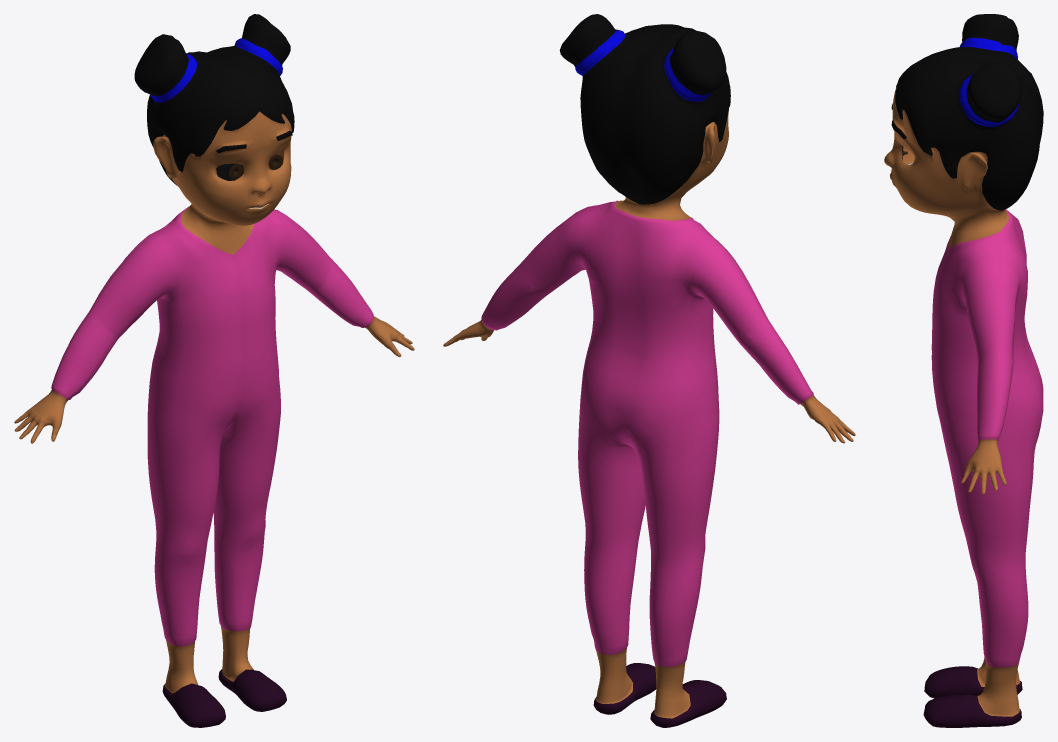
The model's file is lowpoly.fbx.
3 renders of one model, left to right at view 1: azimuth 30°, elevation 25°; view 2: azimuth 150°, elevation 25°; view 3: azimuth 270°, elevation 25°, orthographic. The views are drawn at different scales.
Visible parts, largest first — view 1: lowpoly.001; view 2: lowpoly.001; view 3: lowpoly.001.
Part boxes in pixels (<box>): lowpoly.001: <box>14,14,414,727</box>; lowpoly.001: <box>443,14,855,727</box>; lowpoly.001: <box>884,14,1043,727</box>.
Bounding box in the file's own units: 73.43 × 120 × 25.62.
